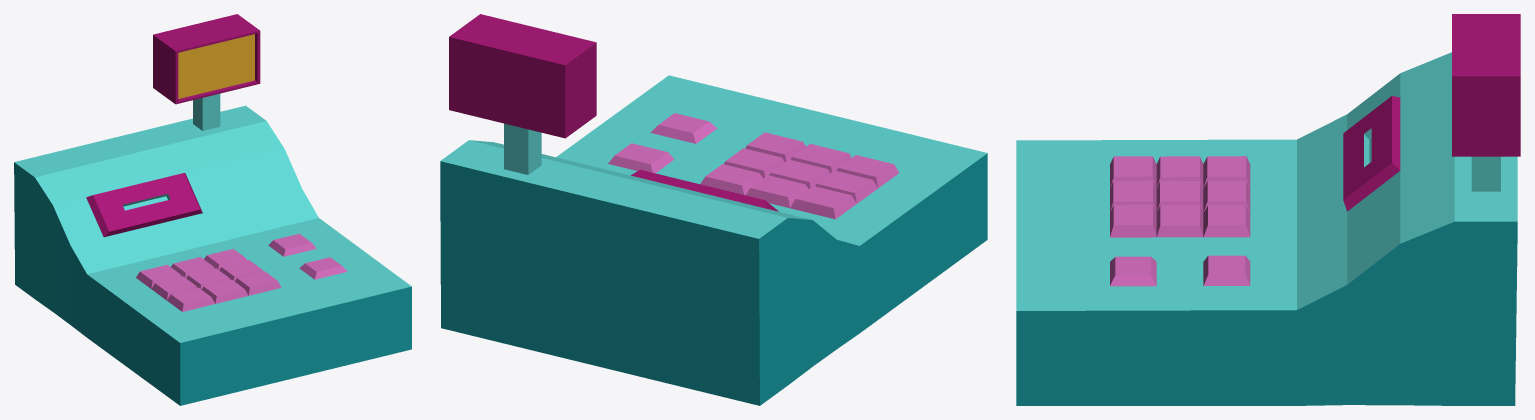
Rendered from CashRegister.fbx.
3 views of the same model, side by side, from view 1: azimuth 30°, elevation 25°; view 2: azimuth 150°, elevation 25°; view 3: azimuth 270°, elevation 25° (orthographic). The views are drawn at different scales.
Parts seen in each view (by area): view 1: CashRegister; view 2: CashRegister; view 3: CashRegister.
Boxes of the visible parts, x1,y1,x2,y2 form: CashRegister: [14, 14, 411, 405]; CashRegister: [440, 14, 987, 405]; CashRegister: [1016, 14, 1520, 405].
Bounding box in the file's own units: 112 × 99.61 × 140.
